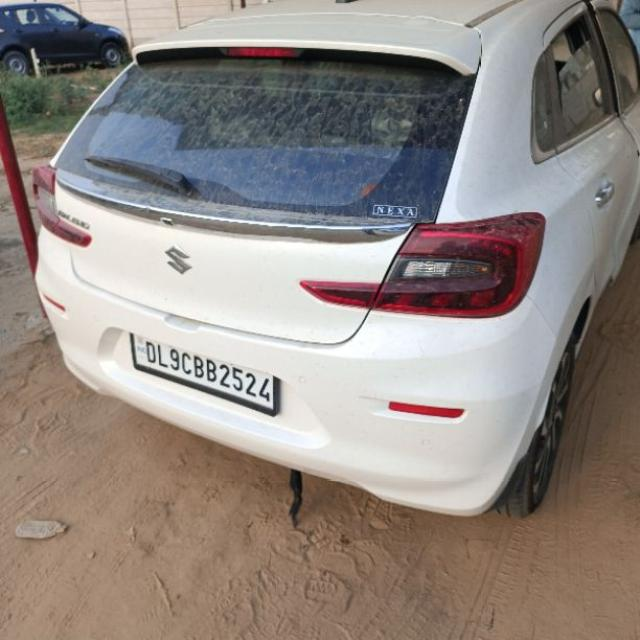license_plate: (128, 332, 280, 416)
